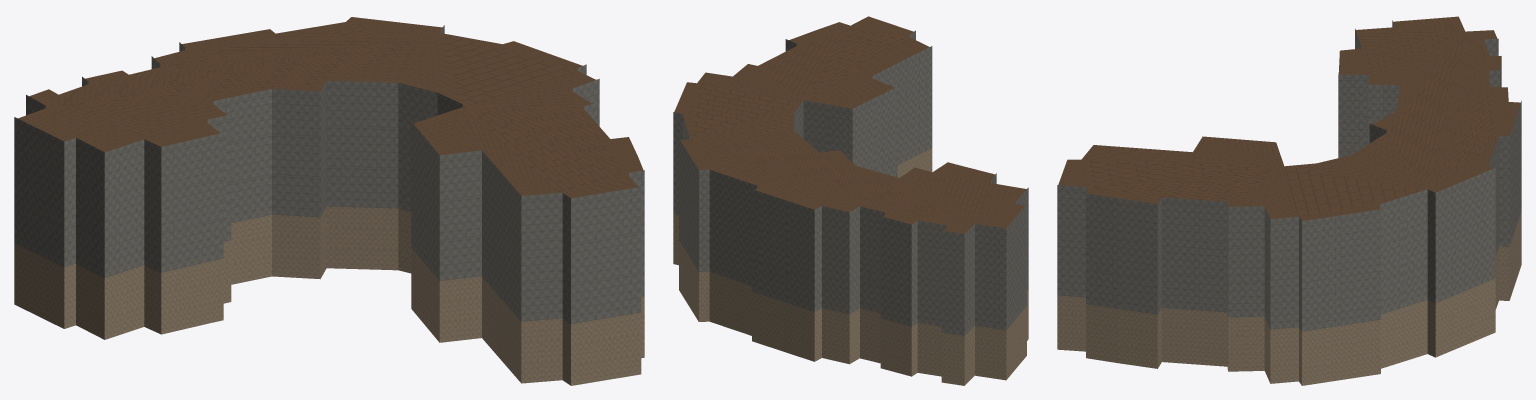
File: bld_c-1_-2_549.gltf
3 renders of one model, left to right at view 1: azimuth 30°, elevation 25°; view 2: azimuth 150°, elevation 25°; view 3: azimuth 270°, elevation 25°, orthographic. The views are drawn at different scales.
Parts seen in each view (by area): view 1: bld_c-1_-2_549; view 2: bld_c-1_-2_549; view 3: bld_c-1_-2_549.
Boxes of the visible parts, left/top/right/bottom form: bld_c-1_-2_549: left=14, top=17, right=644, bottom=385; bld_c-1_-2_549: left=673, top=16, right=1028, bottom=385; bld_c-1_-2_549: left=1057, top=16, right=1521, bottom=385.
Bounding box in the file's own units: 41.72 × 15.48 × 39.51.
Materials: 4 (4 with a texture image).
